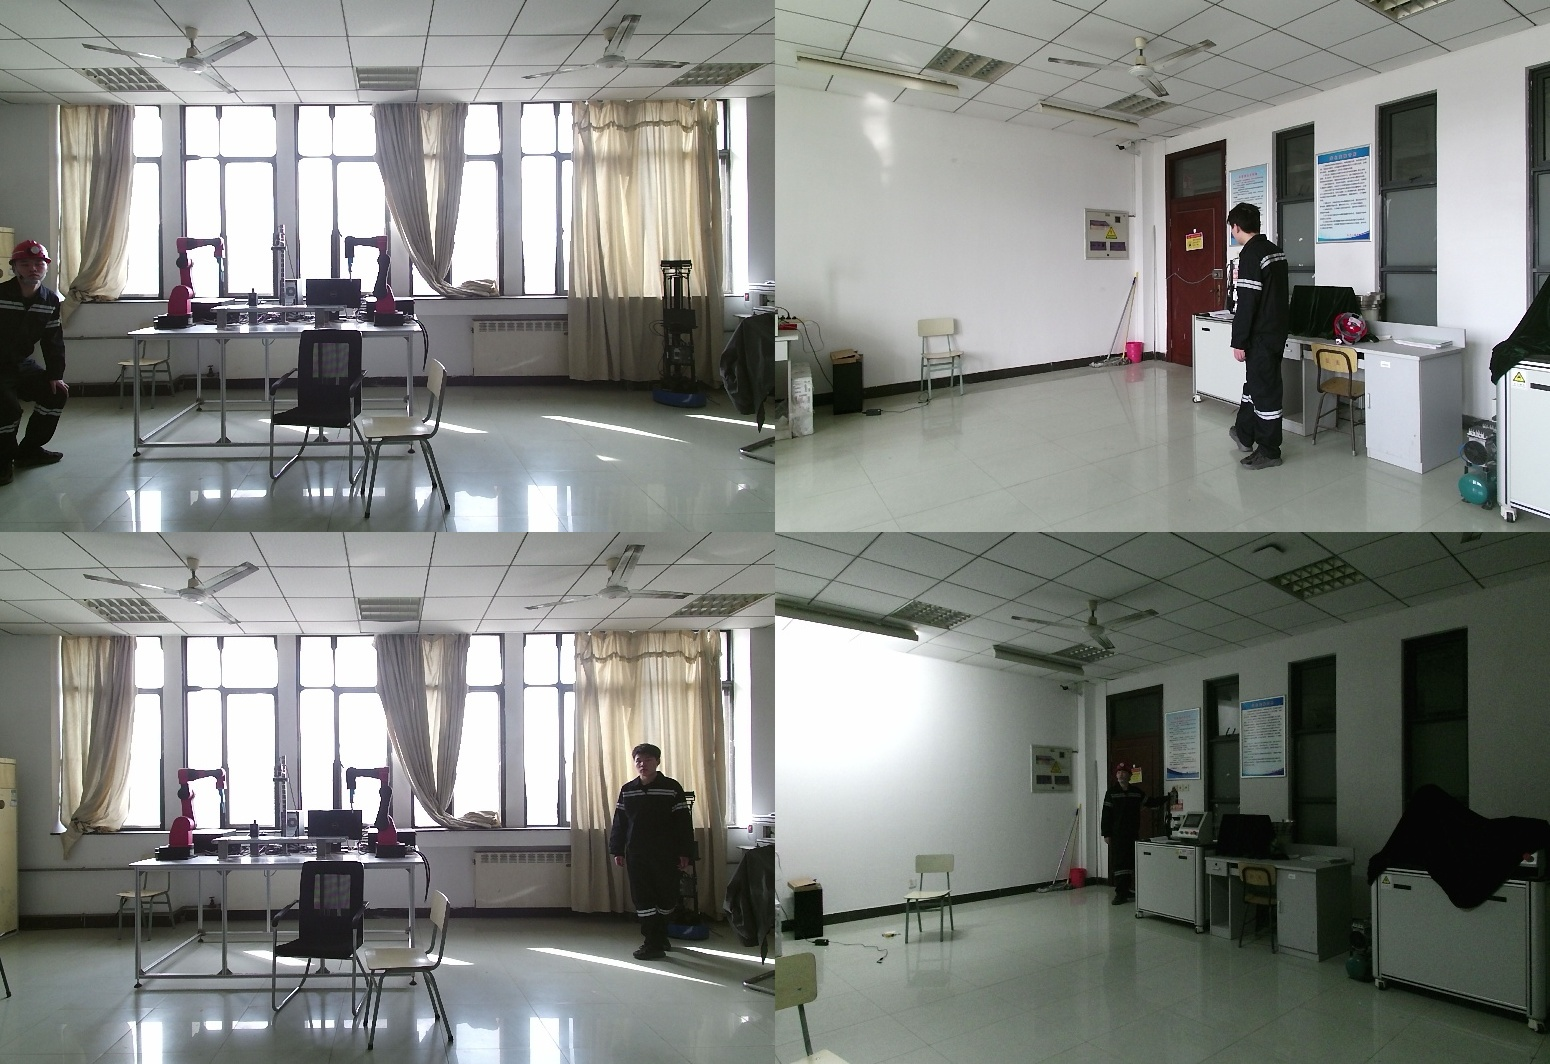person: (1231, 202, 1308, 470), (614, 745, 706, 962), (1, 241, 81, 483), (1099, 759, 1151, 904)
